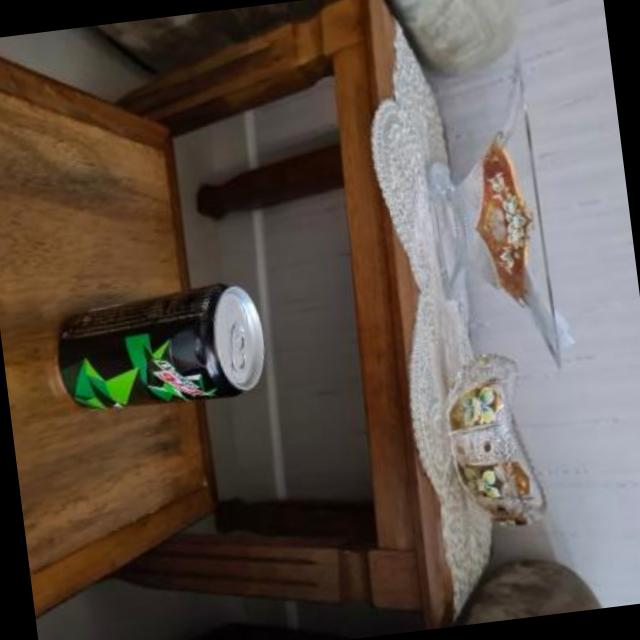metal: (61, 282, 265, 406)
